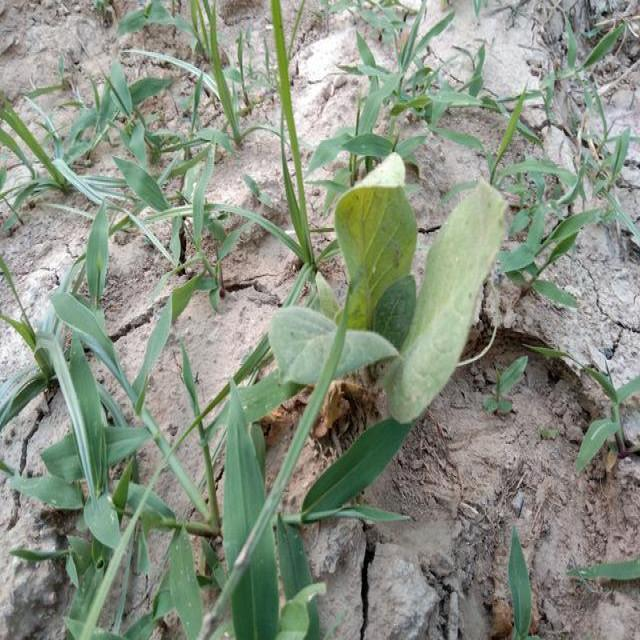crop: (264, 162, 514, 418)
